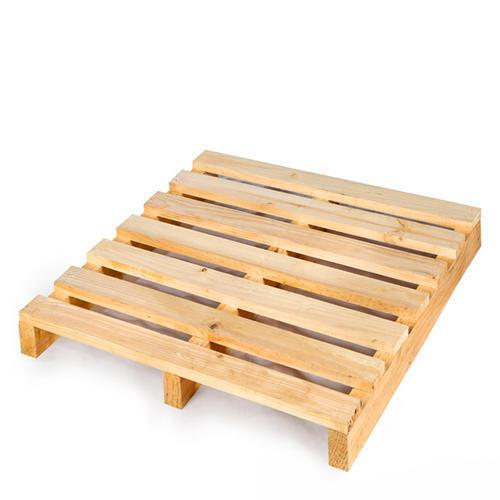wood: (14, 138, 486, 477)
